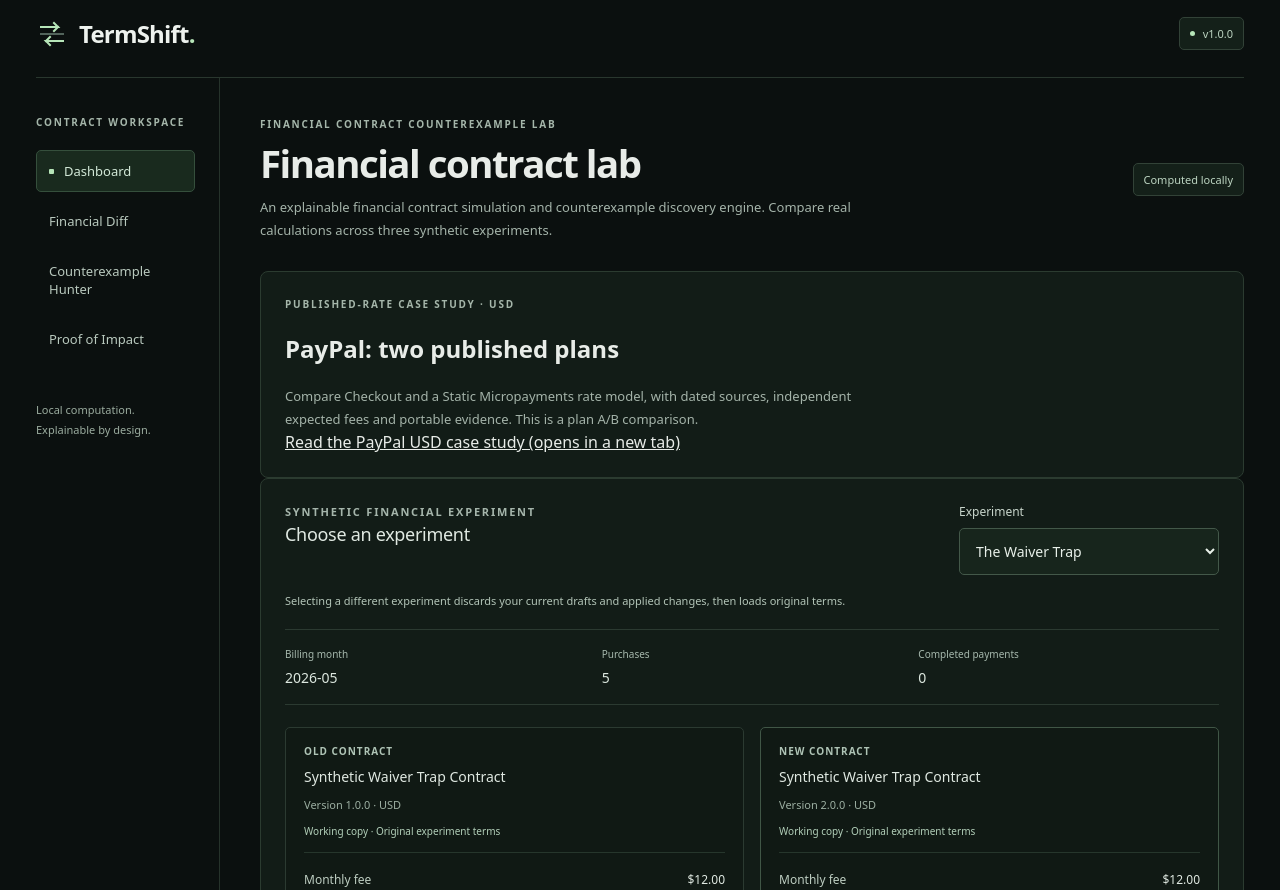
it: real Stage 4A searches and selected financial evidence › discovers real witnesses and displays the returned report for The Waiver Trap
Click the button "Counterexample Hunter": click(116, 280) [36,250,195,310]
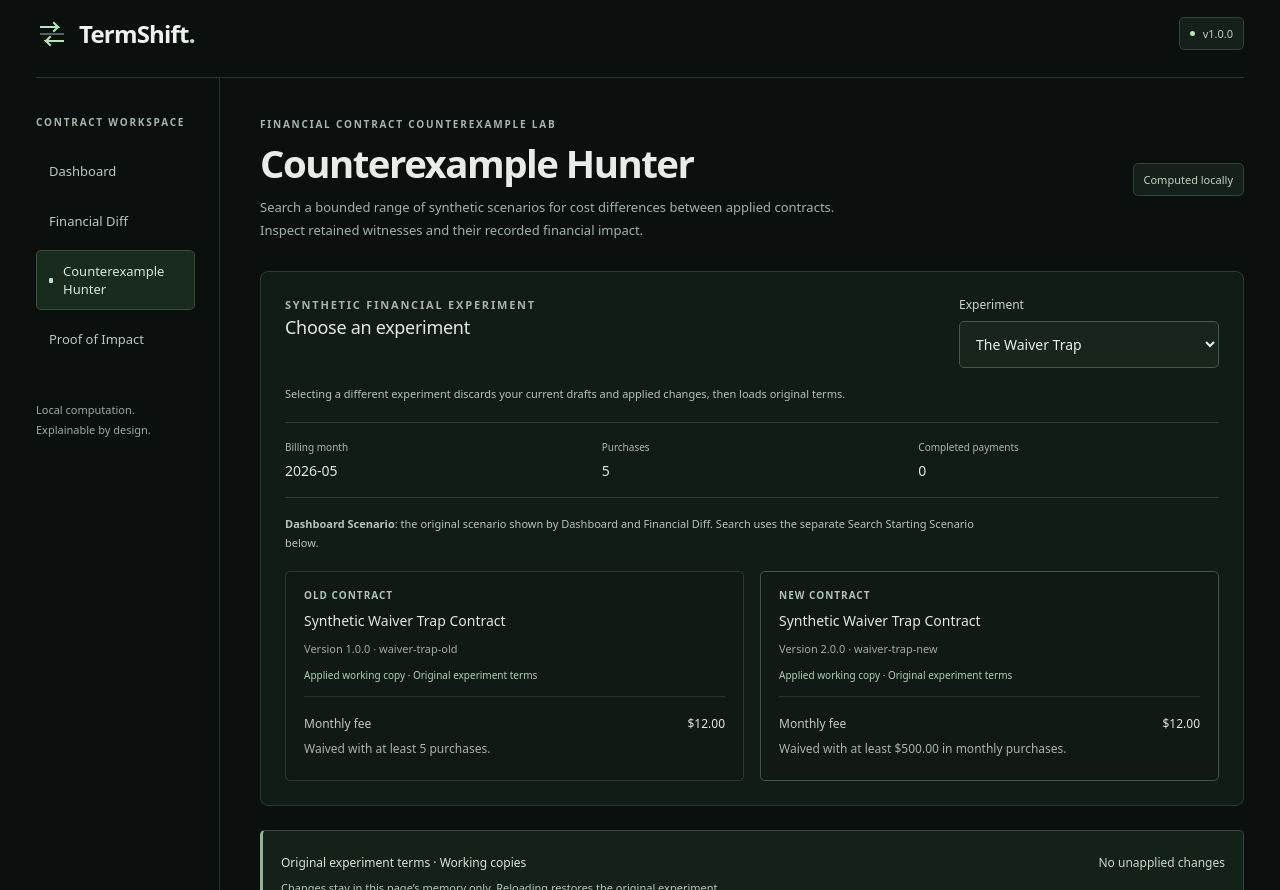
Select "The Waiver Trap" in the dropdown labelled "Experiment": (1089, 344) [959,321,1219,368]
(page scrolled)
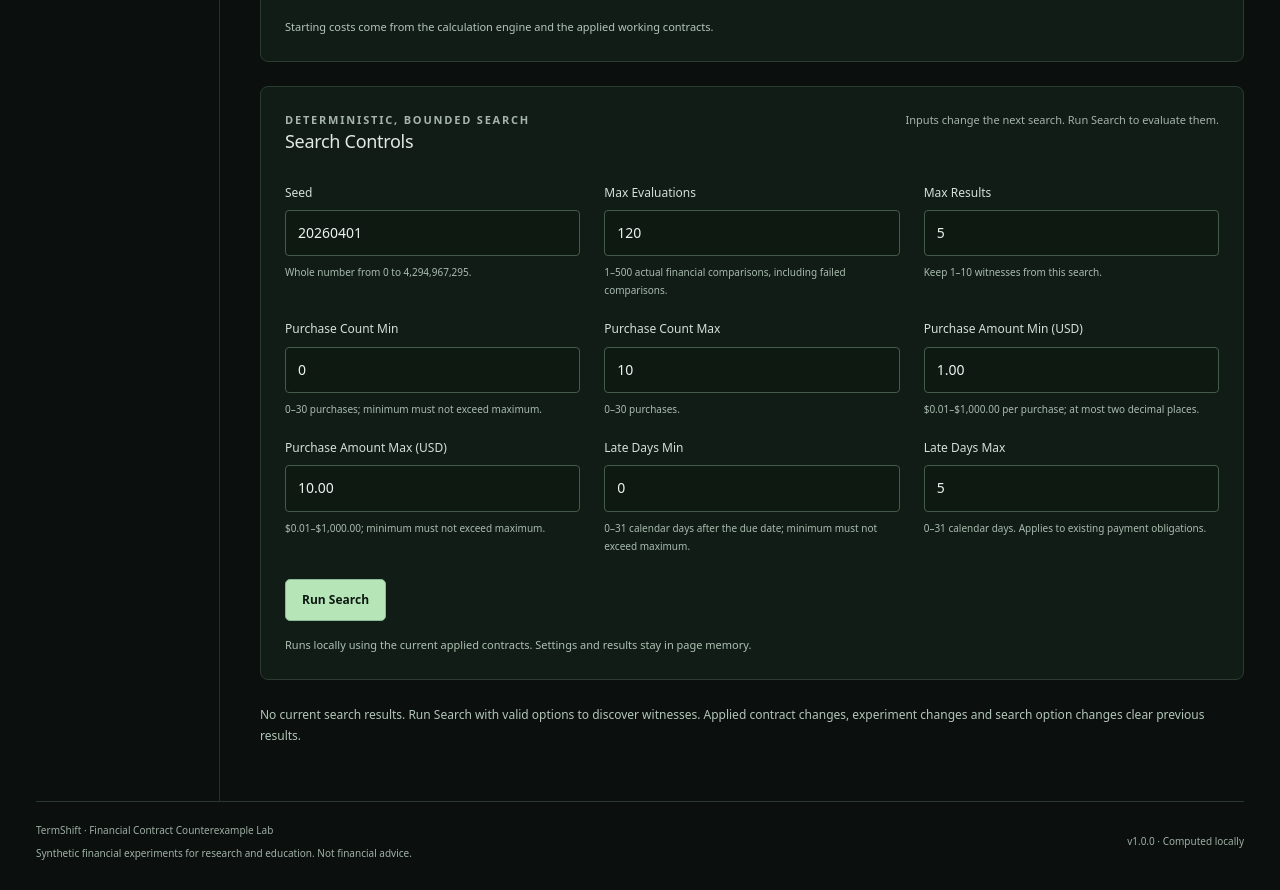
Click the button "Run Search": click(336, 600) [285,579,386,621]
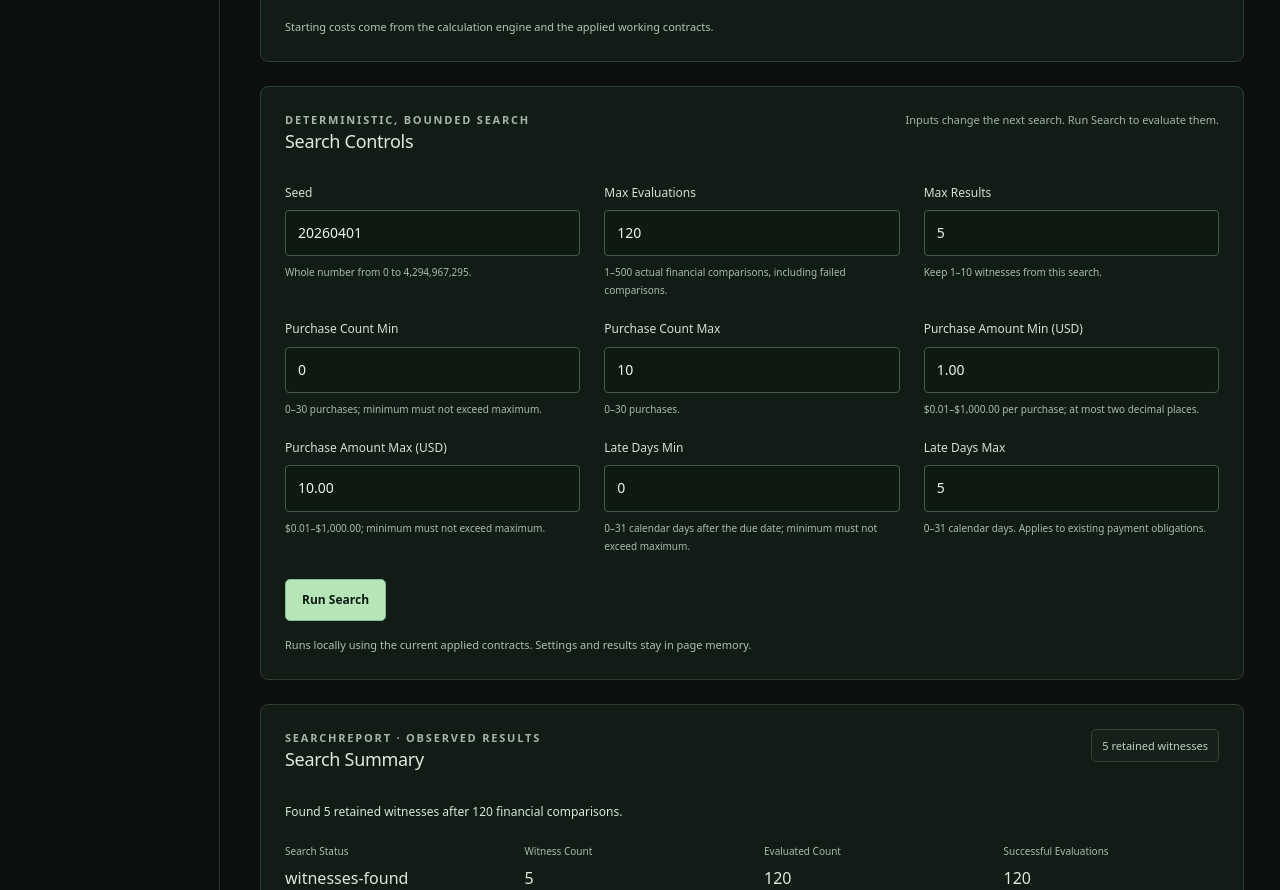
Now the text "witnesses-found" is shown, box [285,867,408,889]
Now the message reads "Found 5 retained witnesses after 120 financial comparisons.", box [285,802,622,820]
